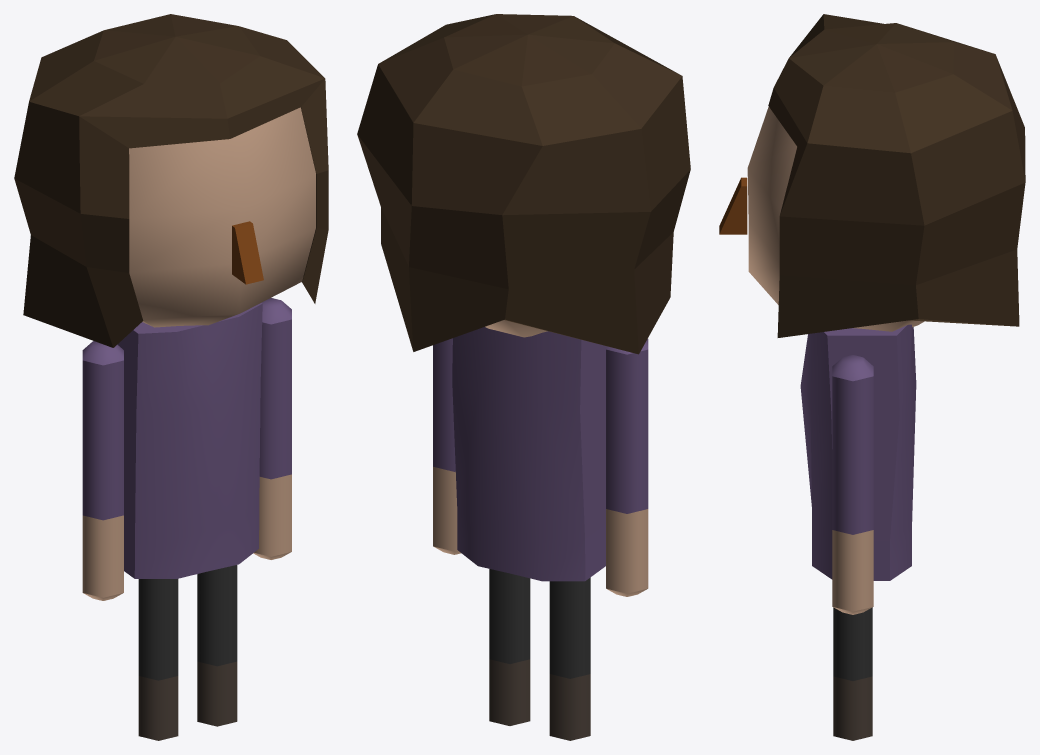
The model's file is Son.FBX.
3 views of the same model, side by side, from view 1: azimuth 30°, elevation 25°; view 2: azimuth 150°, elevation 25°; view 3: azimuth 270°, elevation 25° (orthographic). The views are drawn at different scales.
Parts seen in each view (by area): view 1: Box037; view 2: Box037; view 3: Box037.
Part boxes in pixels (x1,y1,x2,y2): Box037: [14, 14, 328, 740]; Box037: [357, 14, 690, 740]; Box037: [719, 14, 1025, 740].
Size of the model in its own units: 21.01 by 48.24 by 19.89.
